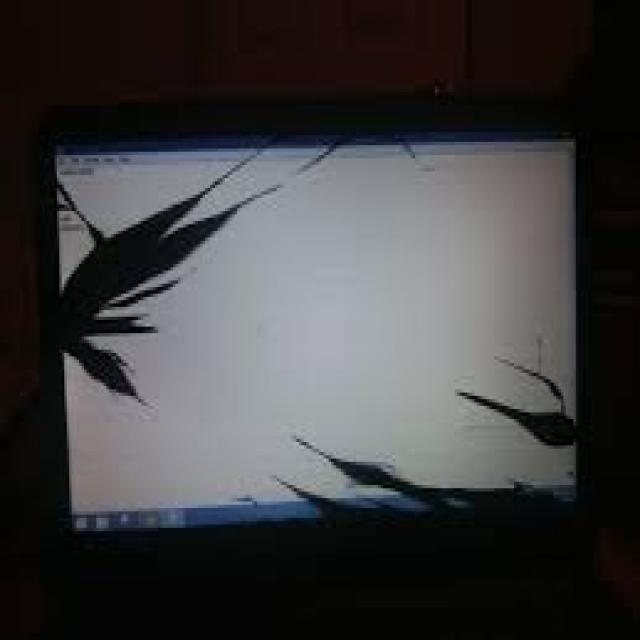Screen cracks: (52, 145, 366, 419), (234, 330, 588, 554)
